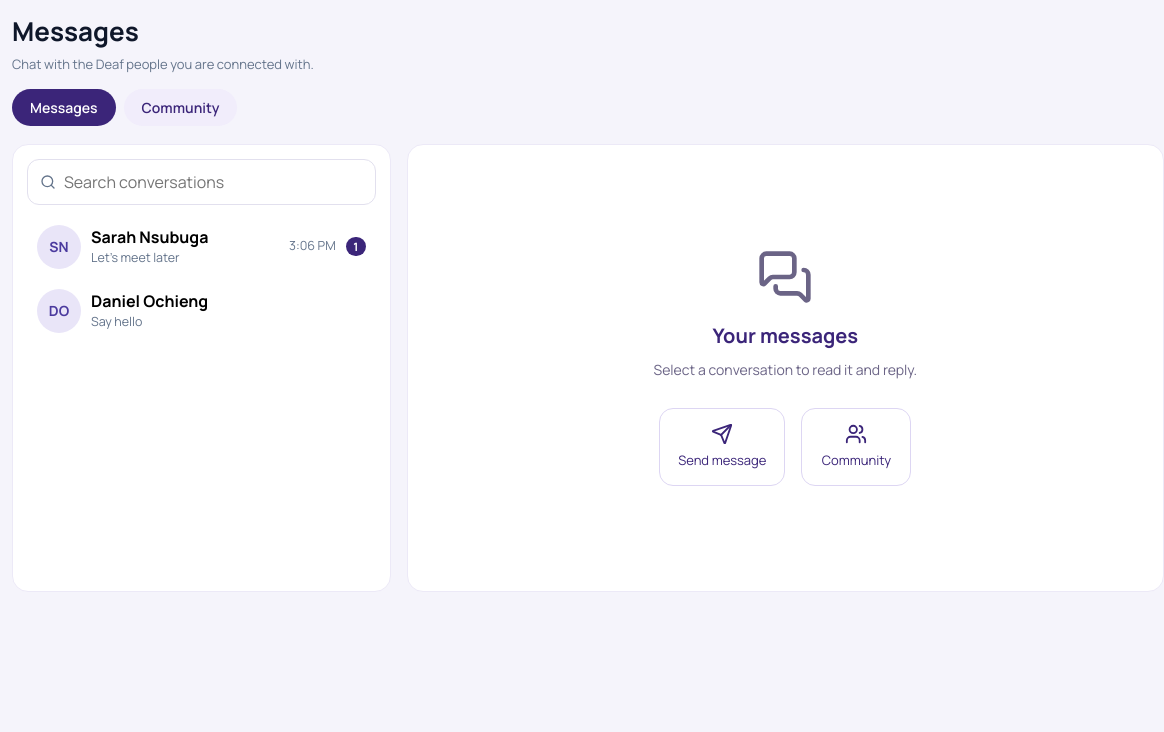
Test: MessagesPage › reads the unread messages of the open conversation and clears the badge
expect the text named "1 unread" is shown: met, box x1=346 y1=237 x2=366 y2=256
Click the button "SN Sarah Nsubuga Let’s meet later 3:06 PM 1": (201, 246) x1=27 y1=214 x2=376 y2=278
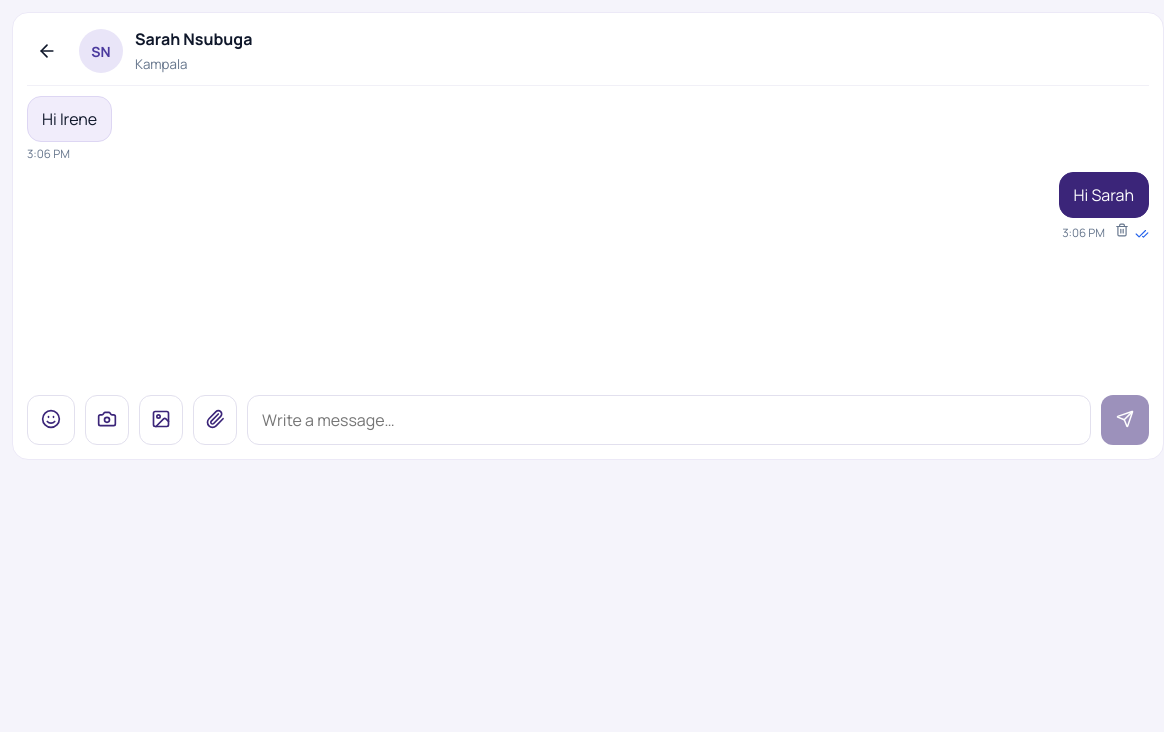
Click the button named "Back to messages": (47, 51) x1=27 y1=31 x2=67 y2=71
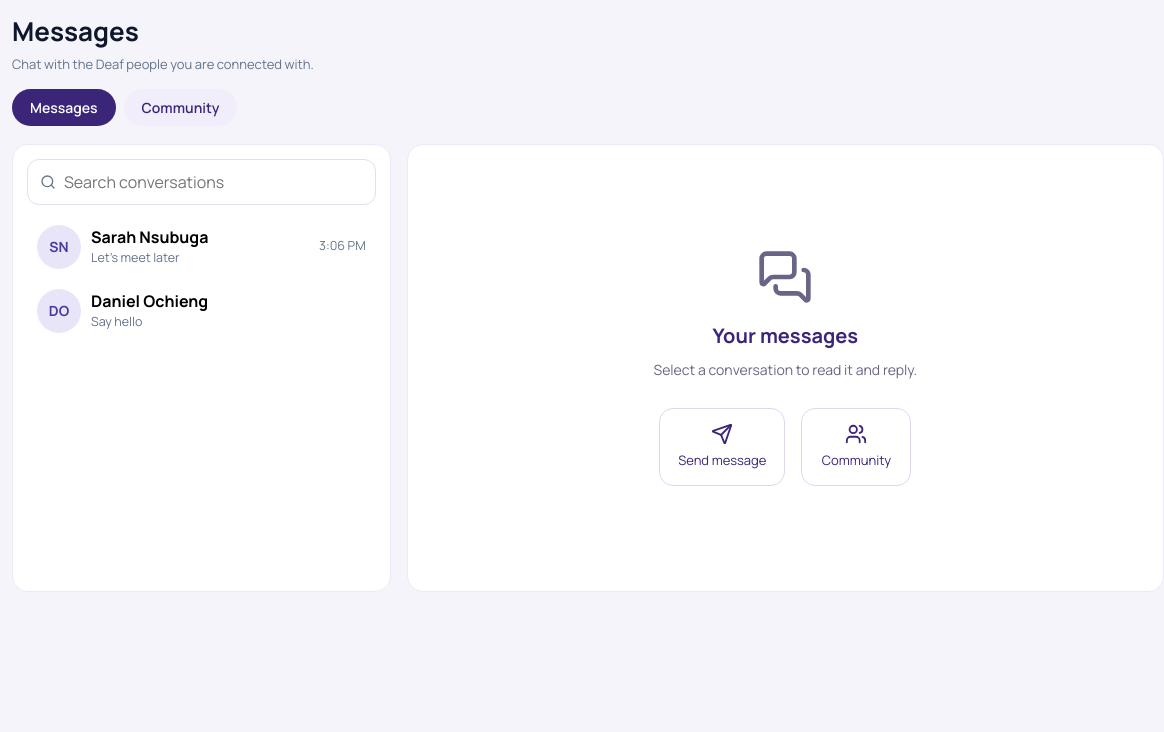
expect the search field labelled "Search conversations" is shown: met, box x1=64 y1=160 x2=363 y2=204
